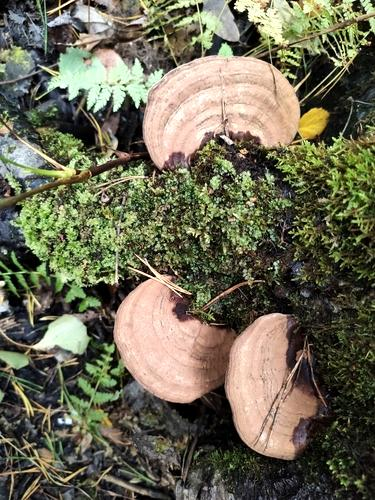Ganoderma - Fruit Body: (146, 54, 303, 156), (111, 269, 222, 407), (229, 304, 319, 458)
